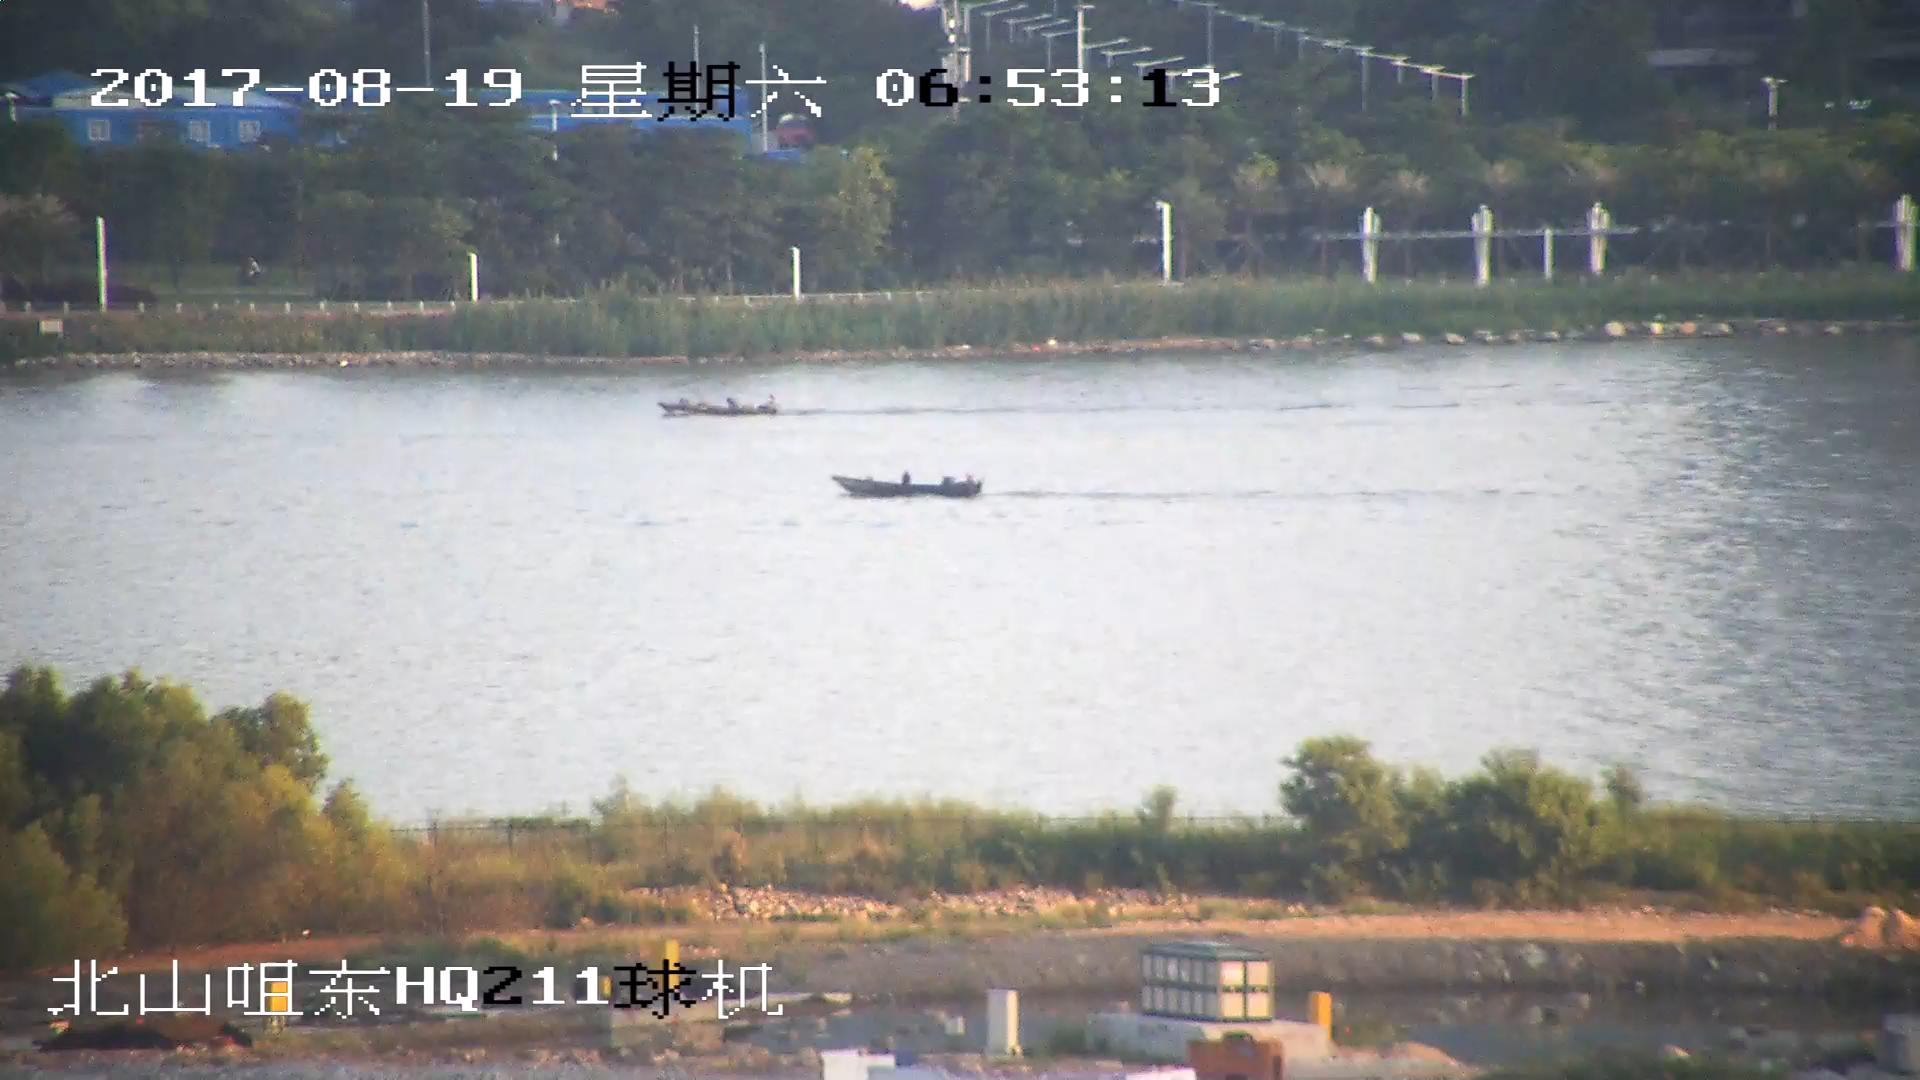fishing boat: (835, 471, 982, 501), (658, 395, 778, 418)
